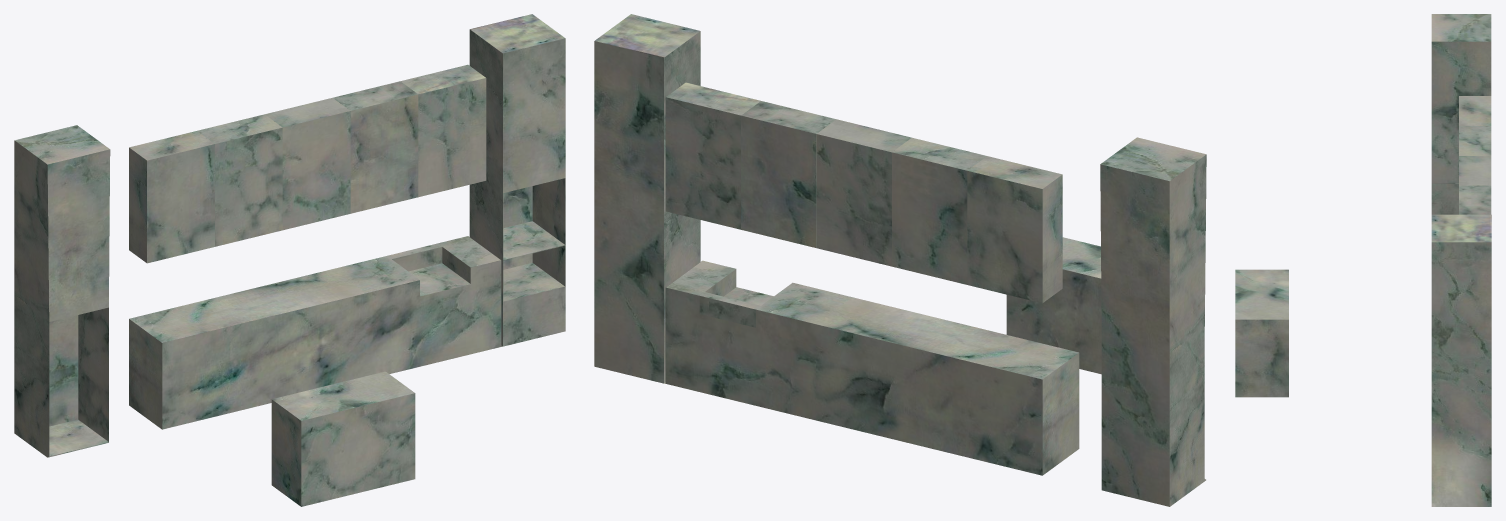
File: Marble.fbx
3 views of the same model, side by side, from view 1: azimuth 30°, elevation 25°; view 2: azimuth 150°, elevation 25°; view 3: azimuth 270°, elevation 25° (orthographic). The views are drawn at different scales.
Parts seen in each view (by area): view 1: Marble Mat; view 2: Marble Mat; view 3: Marble Mat.
Boxes of the visible parts, left/top/right/bottom form: Marble Mat: left=14, top=14, right=565, bottom=506; Marble Mat: left=594, top=14, right=1206, bottom=506; Marble Mat: left=1235, top=14, right=1491, bottom=506.
Size of the model in its own units: 1270 by 699 by 602.
1 material, 1 textured.
